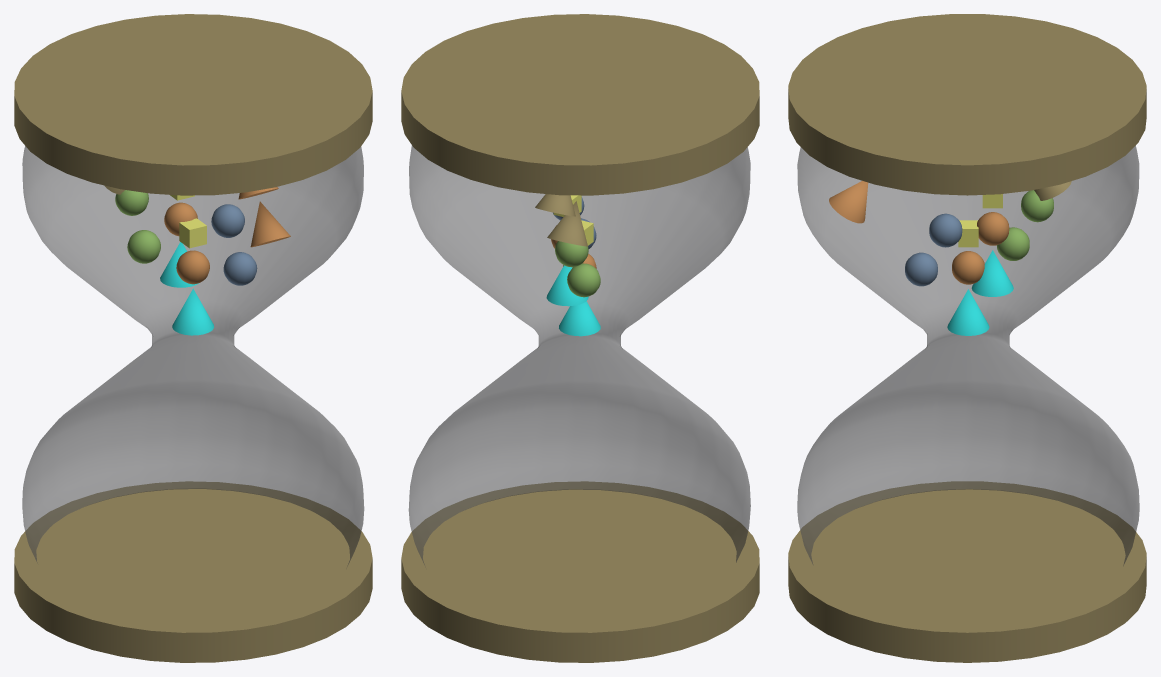
The model's file is hourglass.glb.
3 views of the same model, side by side, from view 1: azimuth 30°, elevation 25°; view 2: azimuth 150°, elevation 25°; view 3: azimuth 270°, elevation 25° (orthographic).
Parts seen in each view (by area): view 1: glass, top1, bottom, pCone1, pCone3, pSphere3, pSphere1, pSphere2, pSphere6, pCube1, pSphere5, pSphere4 (+1 smaller); view 2: glass, top1, bottom, pCone1, pSphere2, pCone2, pCone4, pSphere5, pCone5; view 3: glass, top1, bottom, pCone1, pCone3, pCone4, pSphere6, pSphere3, pSphere1, pSphere4, pSphere2, pSphere5.
Boxes of the visible parts, <box> form: glass: <box>22,146,364,566</box>; top1: <box>14,14,372,195</box>; bottom: <box>14,481,372,662</box>; pCone1: <box>172,288,214,335</box>; pCone3: <box>250,201,290,247</box>; pSphere3: <box>223,252,257,285</box>; pSphere1: <box>176,250,209,284</box>; pSphere2: <box>127,230,160,263</box>; pSphere6: <box>211,204,244,237</box>; pCube1: <box>179,218,206,248</box>; pSphere5: <box>115,190,148,215</box>; pSphere4: <box>164,202,197,236</box>; glass: <box>408,146,750,564</box>; top1: <box>401,14,759,195</box>; bottom: <box>401,481,759,662</box>; pCone1: <box>559,301,600,336</box>; pSphere2: <box>567,263,600,297</box>; pCone2: <box>547,201,587,246</box>; pCone4: <box>546,265,588,306</box>; pSphere5: <box>555,241,588,267</box>; pCone5: <box>535,194,575,216</box>; glass: <box>797,145,1139,565</box>; top1: <box>788,14,1146,195</box>; bottom: <box>788,481,1146,662</box>; pCone1: <box>947,289,989,335</box>; pCone3: <box>829,181,868,223</box>; pCone4: <box>971,250,1013,296</box>; pSphere6: <box>929,213,962,247</box>; pSphere3: <box>905,252,937,286</box>; pSphere1: <box>952,251,984,284</box>; pSphere4: <box>977,212,1009,245</box>; pSphere2: <box>996,227,1029,260</box>; pSphere5: <box>1021,190,1053,222</box>.
Size of the model in its own units: 0.5565 by 0.8529 by 0.5571.
